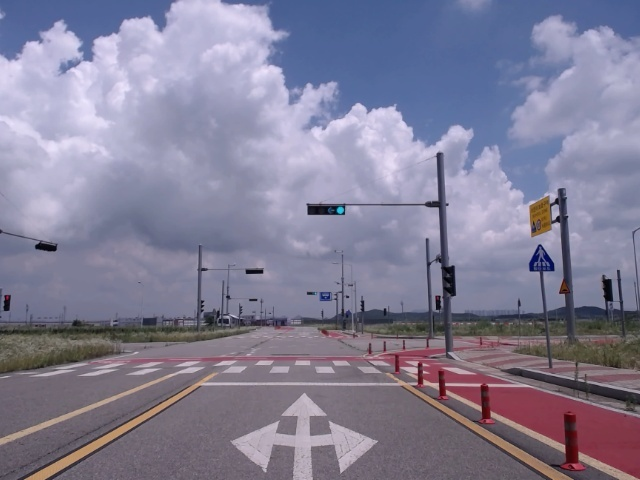all_green_4: (305, 202, 346, 215)
